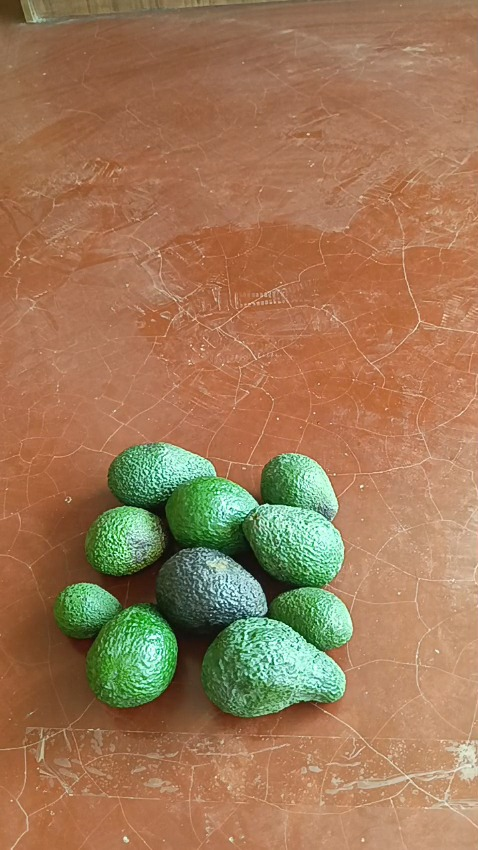Primera: (202, 616, 345, 716), (84, 601, 180, 706), (155, 547, 265, 634), (242, 503, 344, 586), (165, 477, 259, 556), (107, 442, 215, 510)
Segunda: (84, 506, 168, 577), (258, 453, 338, 520)
Tercera: (267, 586, 352, 651), (52, 582, 120, 640)
